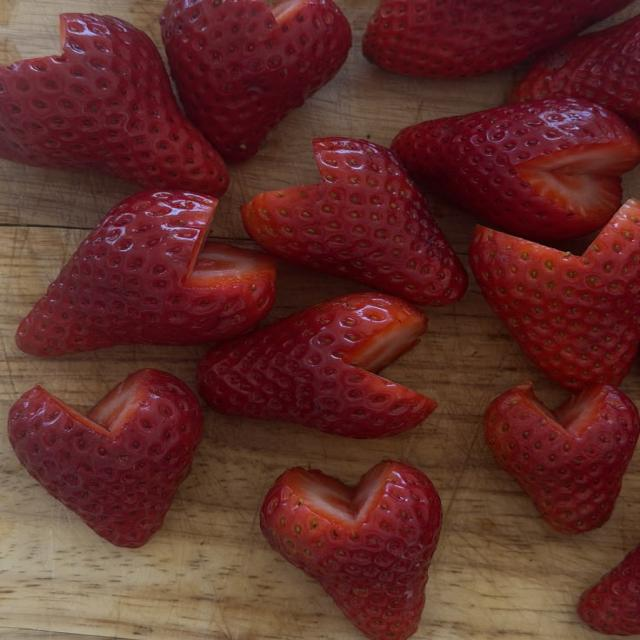strawberry sliced: (16, 192, 275, 356), (0, 14, 228, 197), (241, 138, 467, 305), (392, 98, 639, 242), (8, 369, 202, 547), (198, 293, 436, 437), (260, 460, 441, 639), (470, 200, 639, 391), (160, 0, 351, 162), (485, 383, 639, 533), (511, 16, 639, 131), (515, 138, 638, 220), (577, 545, 639, 636), (184, 241, 273, 287)
